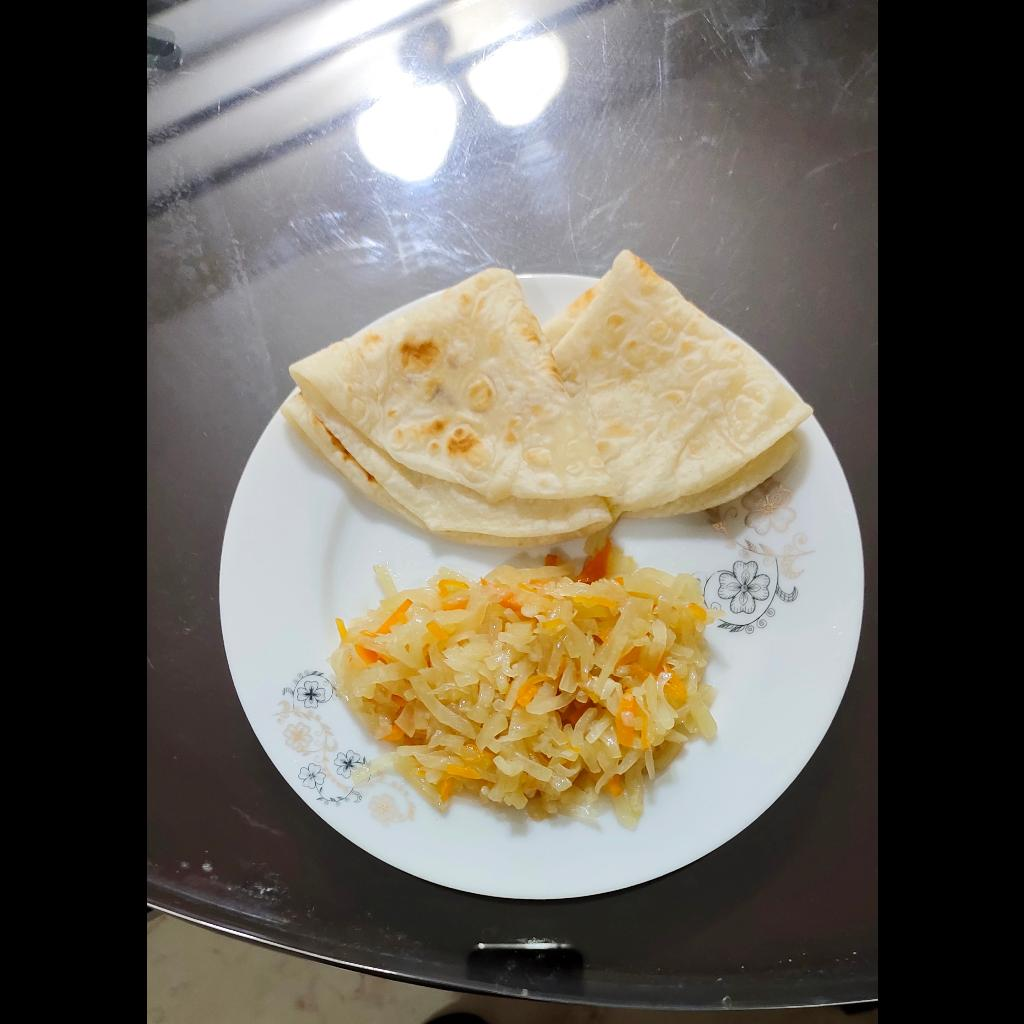ruti: (280, 247, 812, 547)
vegetable: (331, 535, 720, 826)
